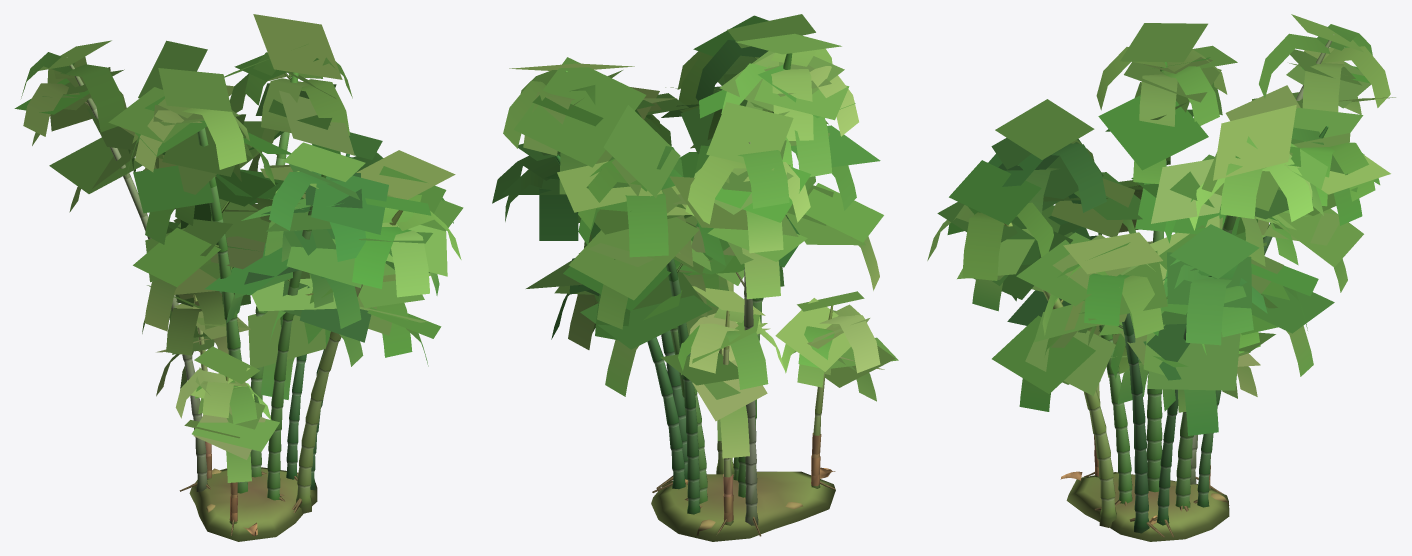
File: tree-stand-grove-v1.glb
3 renders of one model, left to right at view 1: azimuth 30°, elevation 25°; view 2: azimuth 150°, elevation 25°; view 3: azimuth 270°, elevation 25°, orthographic. The views are drawn at different scales.
Visible parts, largest first — view 1: culmLeaf, culm; view 2: culmLeaf, culm; view 3: culmLeaf, culm.
Part boxes in pixels (<box>): culmLeaf: <box>14,14,463,482</box>; culm: <box>66,57,402,541</box>; culmLeaf: <box>492,14,898,458</box>; culm: <box>554,53,835,541</box>; culmLeaf: <box>927,14,1395,435</box>; culm: <box>1004,34,1334,541</box>.
Bounding box in the file's own units: 6.06 × 7.76 × 7.34.
